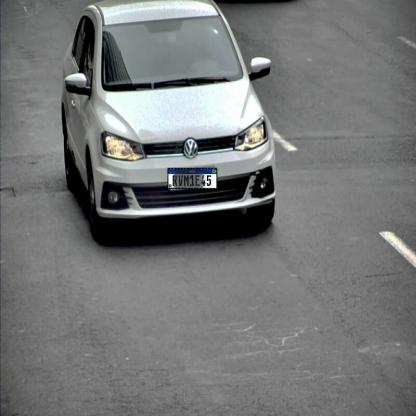PlacaM: (168, 168, 218, 189)
